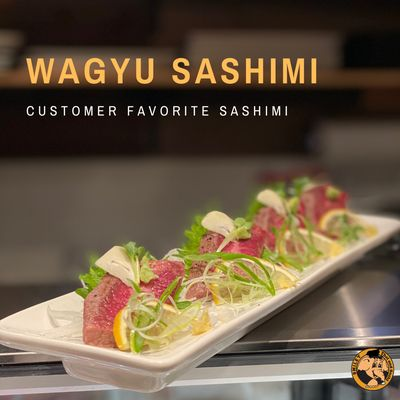sushi: (15, 162, 399, 388)
